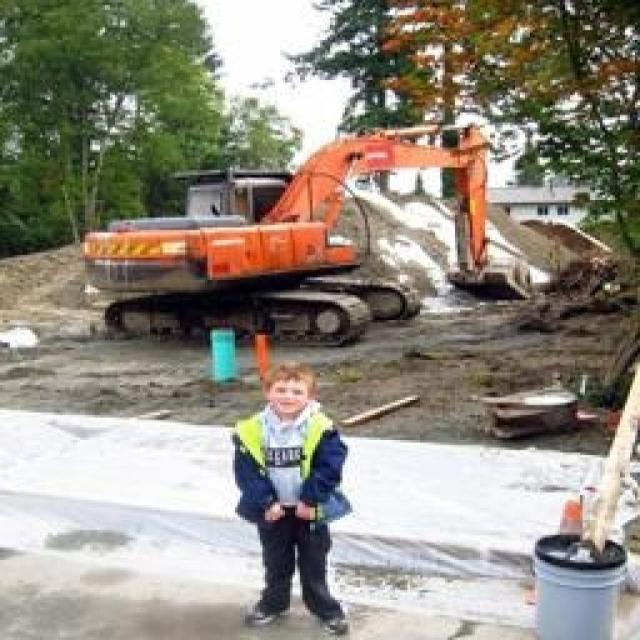Helmet: (222, 404, 350, 543), (258, 354, 330, 436)
